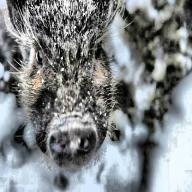boar: (0, 0, 144, 185)
